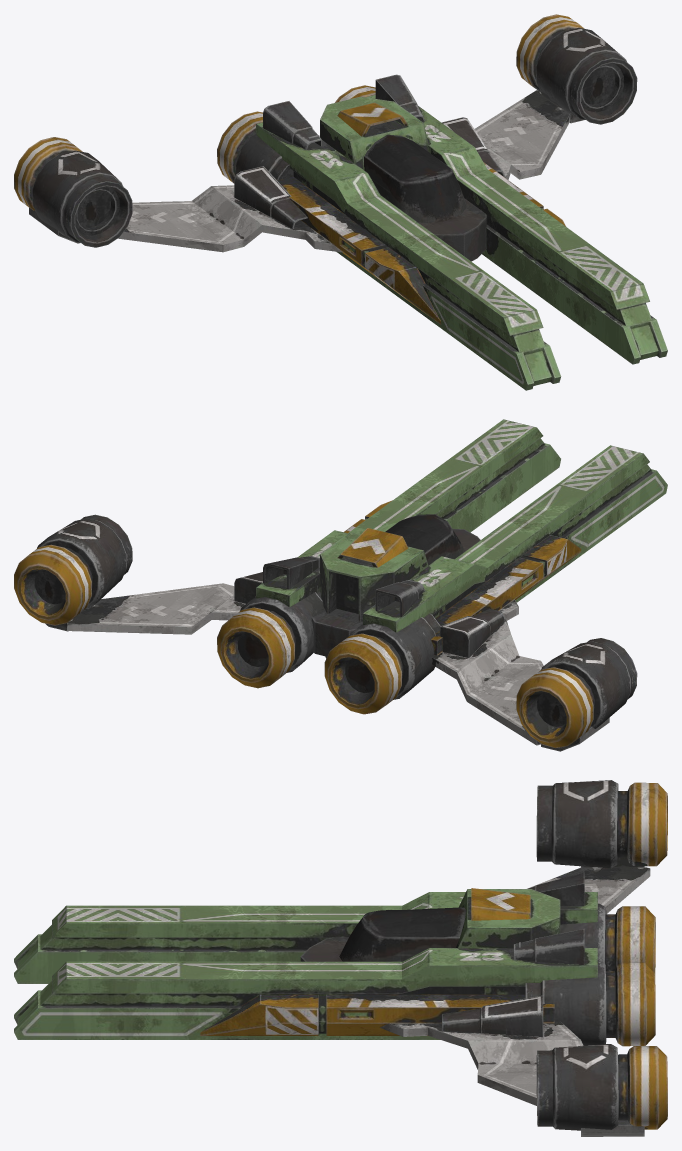
File: executioner_green.glb
The picture shows the model from 3 angles, top to bottom: view 1: azimuth 30°, elevation 25°; view 2: azimuth 150°, elevation 25°; view 3: azimuth 270°, elevation 25°; orthographic projection. The views are drawn at different scales.
Visible parts, largest first — view 1: executioner; view 2: executioner; view 3: executioner.
Part boxes in pixels (x1,y1,x2,y2): executioner: [14, 14, 667, 390]; executioner: [14, 419, 667, 751]; executioner: [14, 780, 667, 1136].
Size of the model in its own units: 10.02 by 1.85 by 9.2.
1 material, 1 textured.
